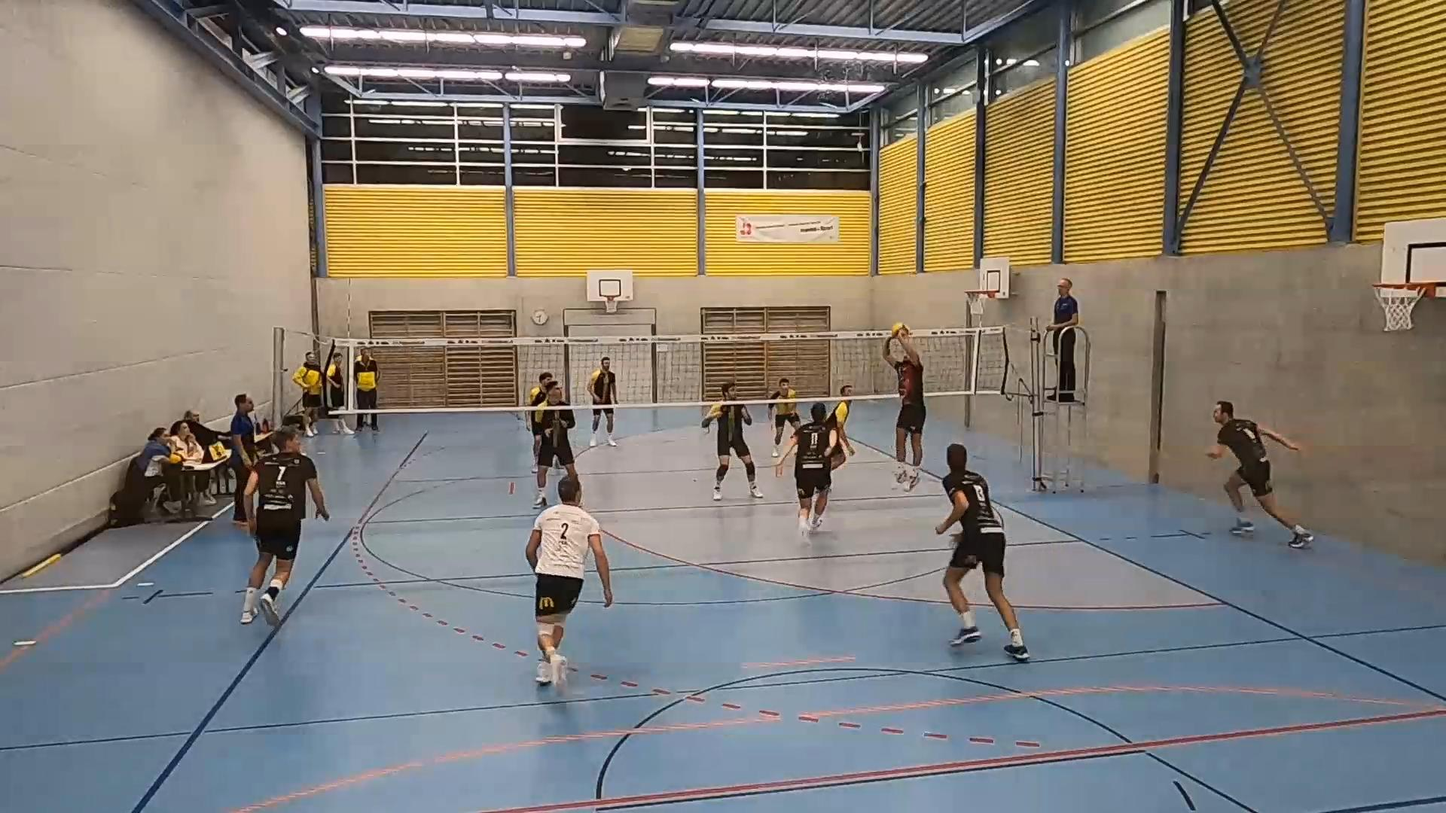alzata: (878, 335, 927, 496)
